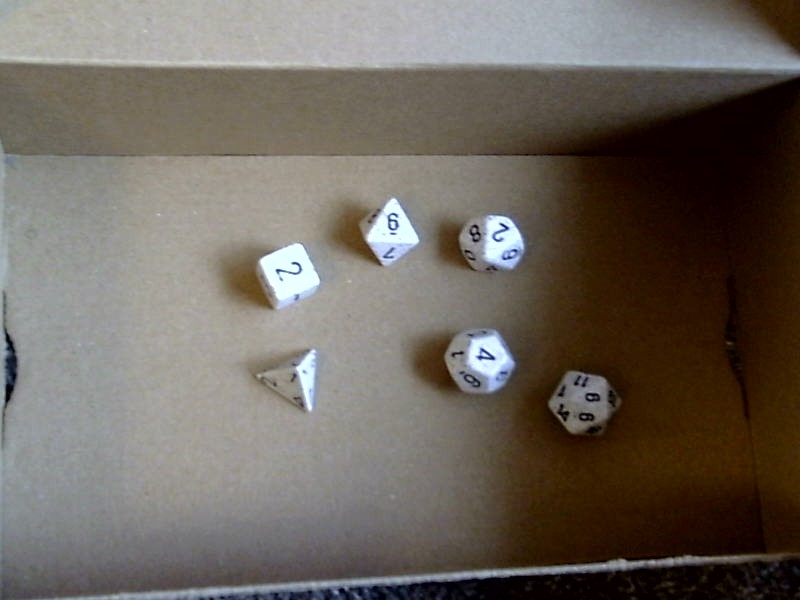d10 2: (452, 207, 534, 278)
d12 4: (437, 324, 520, 399)
d20 9: (545, 366, 629, 443)
d4 1: (252, 343, 320, 415)
d6 2: (248, 237, 327, 315)
d8 6: (353, 188, 421, 274)
